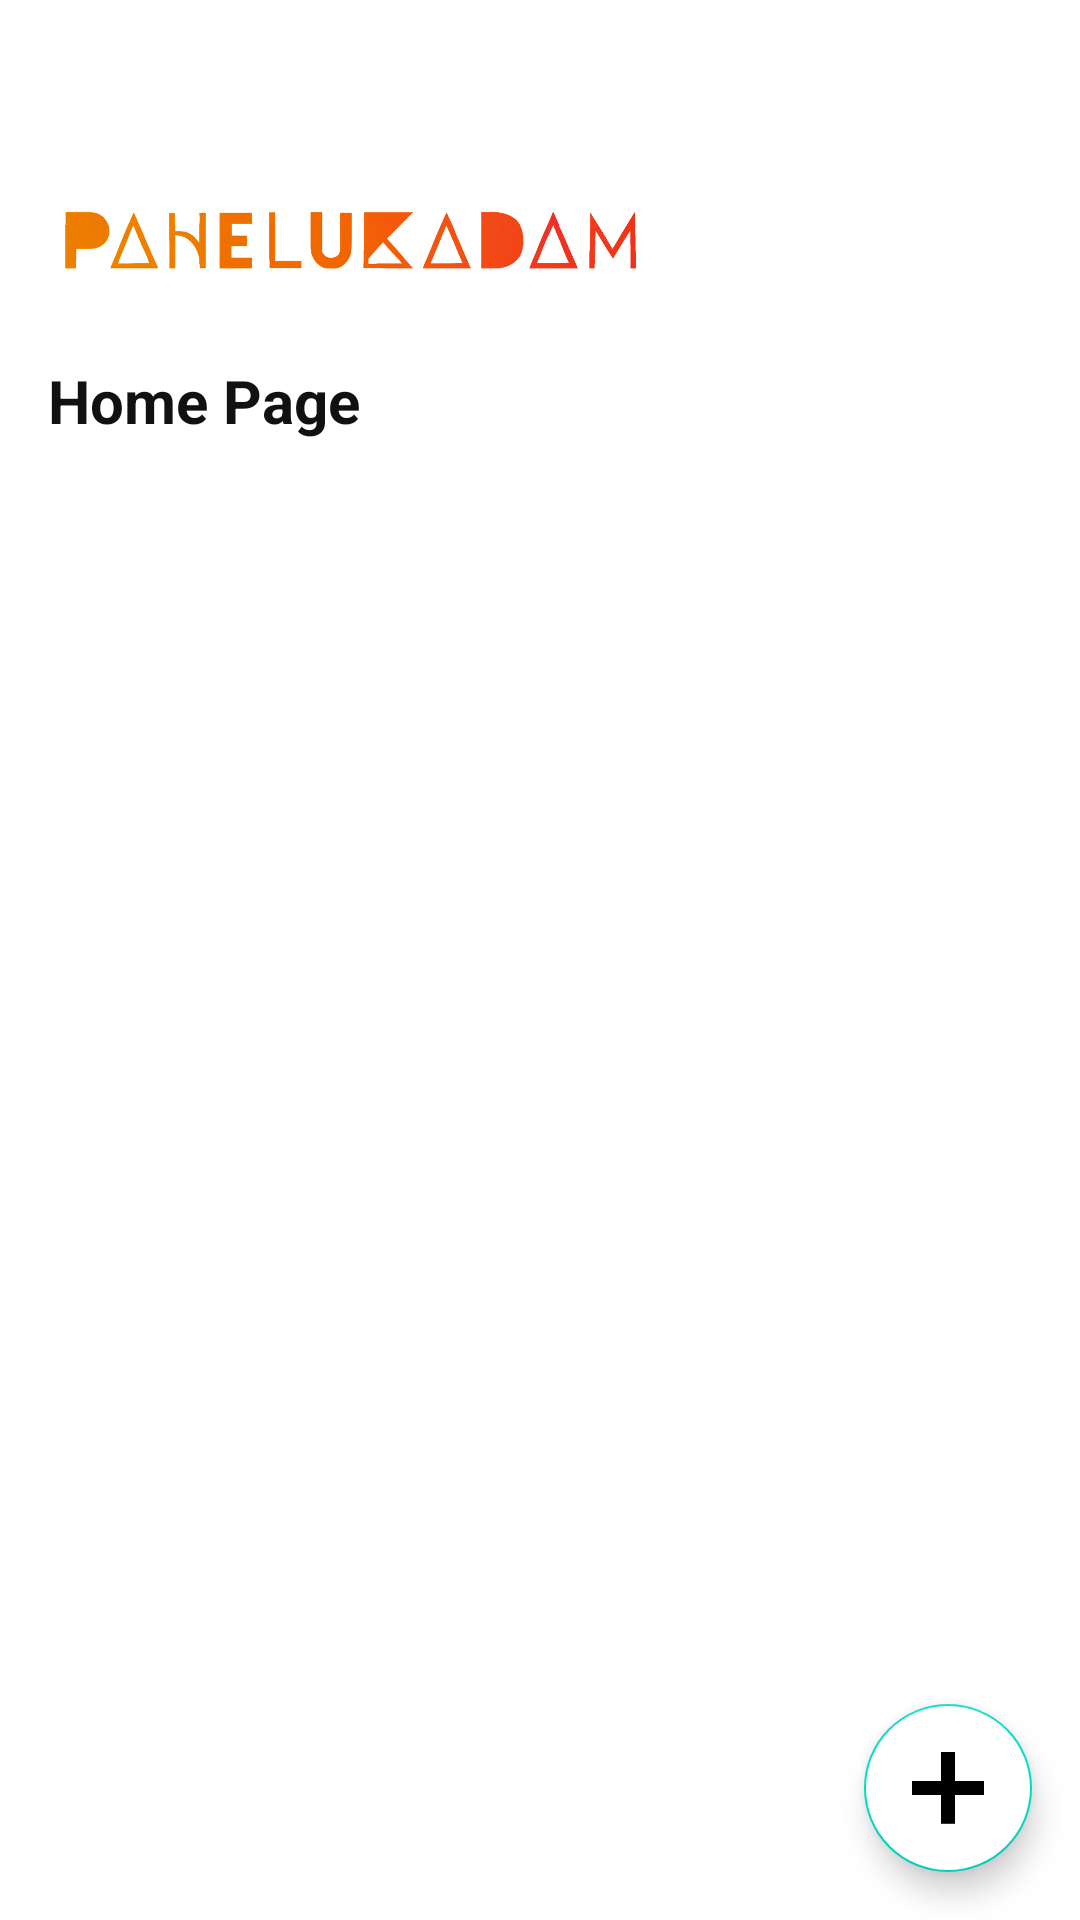

Icons on this 1080x1920 Android screen, each with the point to tap as (x,y):
Add Business: (948,1788)
